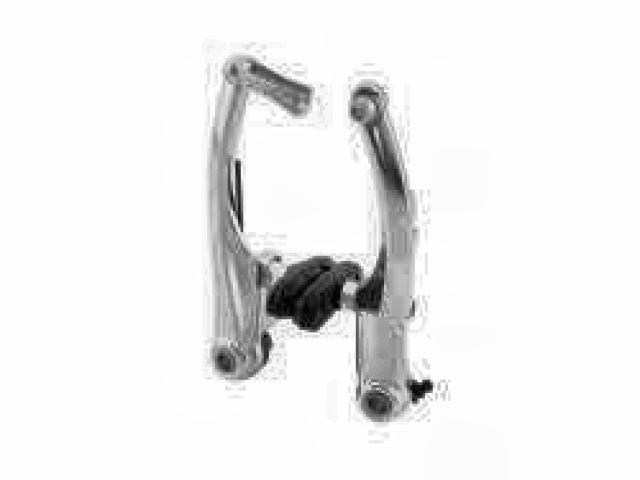rim_brake: (200, 54, 435, 424)
